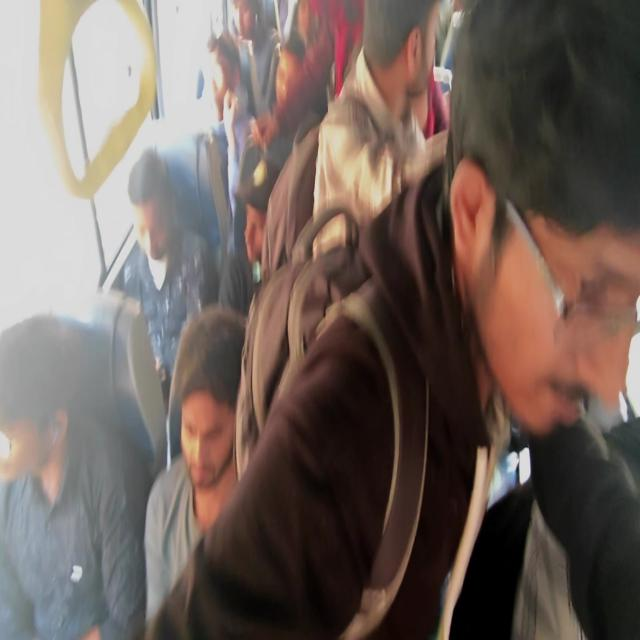person: (144, 0, 638, 638), (0, 312, 146, 638), (311, 0, 443, 260), (142, 302, 246, 630), (111, 147, 219, 415), (218, 144, 281, 314)
